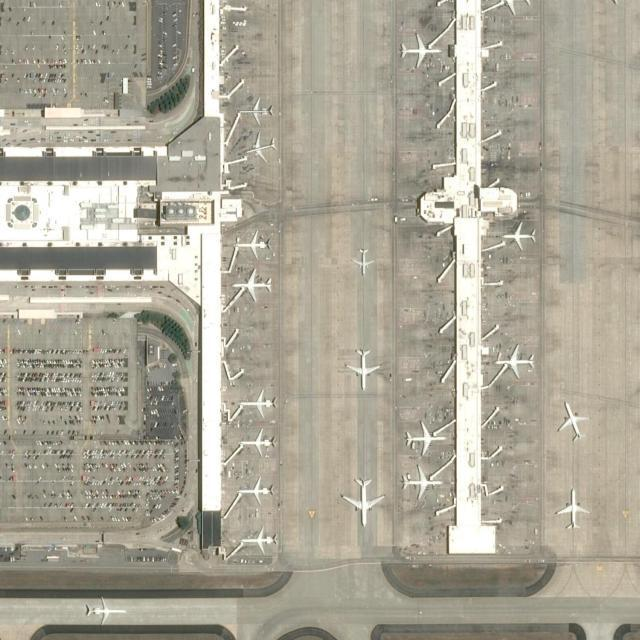Aircraft: (340, 478, 382, 529), (398, 35, 440, 71), (346, 347, 380, 389), (555, 489, 589, 531), (494, 345, 536, 378), (402, 465, 442, 499), (557, 400, 589, 442), (231, 269, 271, 301), (404, 422, 445, 453), (86, 599, 128, 626), (238, 390, 278, 418), (236, 477, 276, 505), (233, 231, 271, 259), (239, 526, 277, 554), (502, 223, 538, 252), (238, 429, 275, 457), (237, 97, 275, 124), (244, 134, 278, 163), (352, 248, 374, 276), (491, 0, 534, 14)
